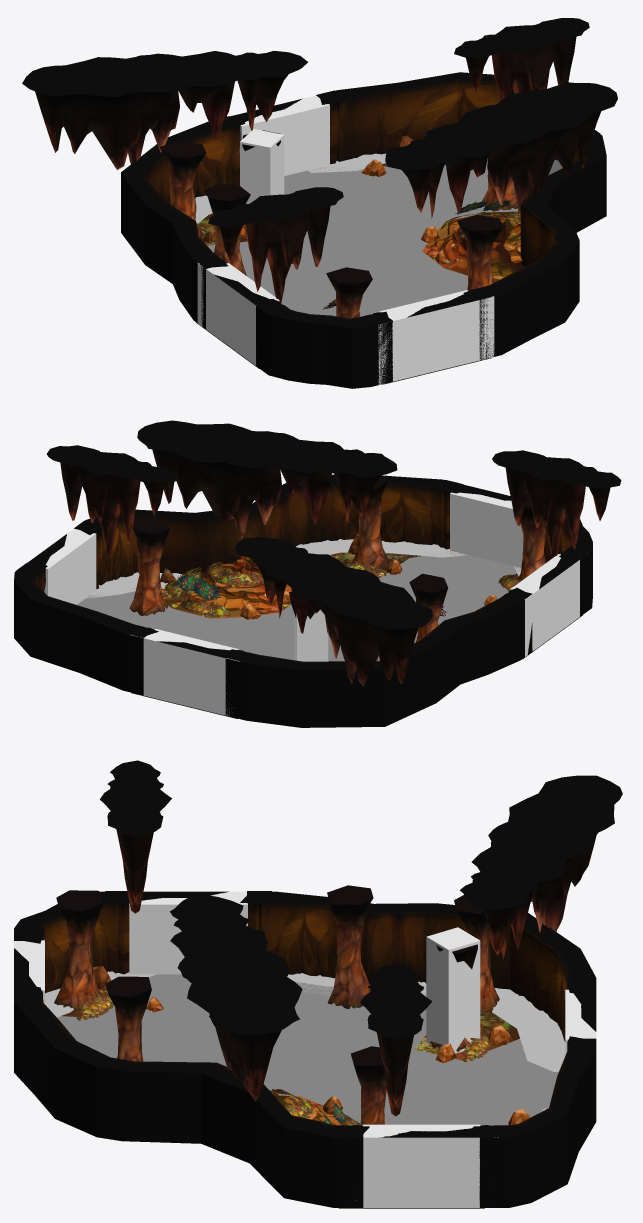
The model's file is Dungeon_062_Room_003.fbx.
The picture shows the model from 3 angles, top to bottom: view 1: azimuth 30°, elevation 25°; view 2: azimuth 150°, elevation 25°; view 3: azimuth 270°, elevation 25°; orthographic projection. The views are drawn at different scales.
Visible parts, largest first — view 1: Dun_061_Room_003_Object02, Dun_061_Room_003_wall, Dun_062_Room_003_Nav, DoorWay_NavMask (1) (×3), DoorWay_NavMask (3) (×2), Dun_062_Object027, Dun_062_Door_002 (×3), cube_061_pillar, Dun_062_Object07, Dungeon_062_Object_04_Pillar (×2), Dun_061_Room_003_shadow, Dun_011_Room_003_ground (+1 smaller); view 2: Dun_061_Room_003_wall, Dun_061_Room_003_Object02, DoorWay_NavMask (1) (×4), Dun_062_Room_003_Nav, DoorWay_NavMask (3) (×2), Dun_062_Door_002 (×4), Dungeon_062_Object_04_Pillar (×2), Dun_062_Object027, Dun_062_Object026, Dun_061_Room_003_shadow, Dun_062_Object07, cube_061_pillar (+3 smaller); view 3: Dun_061_Room_003_wall, Dun_061_Room_003_Object02, Dun_062_Room_003_Nav, Dun_062_Object027, DoorWay_NavMask (1) (×4), DoorWay_NavMask (3), Dun_062_Door_002 (×4), Dungeon_062_Object_04_Pillar (×2), cube_061_pillar, Dun_061_Room_003_shadow, Dun_062_Object026, Dun_011_Room_003_ground (+1 smaller).
Boxes of the visible parts, bbox=[...] form: Dun_061_Room_003_Object02: bbox=[22, 18, 617, 302]; Dun_061_Room_003_wall: bbox=[121, 72, 606, 388]; Dun_062_Room_003_Nav: bbox=[208, 158, 518, 316]; DoorWay_NavMask (1) (×3): bbox=[206, 95, 480, 381]; DoorWay_NavMask (3) (×2): bbox=[197, 263, 494, 384]; Dun_062_Object027: bbox=[160, 130, 503, 318]; Dun_062_Door_002 (×3): bbox=[195, 90, 497, 382]; cube_061_pillar: bbox=[240, 129, 284, 203]; Dun_062_Object07: bbox=[434, 216, 524, 279]; Dungeon_062_Object_04_Pillar (×2): bbox=[204, 173, 517, 275]; Dun_061_Room_003_shadow: bbox=[195, 153, 386, 223]; Dun_011_Room_003_ground: bbox=[196, 163, 520, 384]; Dun_061_Room_003_wall: bbox=[14, 474, 592, 727]; Dun_061_Room_003_Object02: bbox=[47, 420, 621, 685]; DoorWay_NavMask (1) (×4): bbox=[44, 492, 560, 714]; Dun_062_Room_003_Nav: bbox=[77, 551, 520, 661]; DoorWay_NavMask (3) (×2): bbox=[130, 560, 579, 716]; Dun_062_Door_002 (×4): bbox=[16, 480, 590, 715]; Dungeon_062_Object_04_Pillar (×2): bbox=[129, 515, 448, 641]; Dun_062_Object027: bbox=[289, 475, 545, 661]; Dun_062_Object026: bbox=[164, 559, 522, 617]; Dun_061_Room_003_shadow: bbox=[85, 539, 521, 598]; Dun_062_Object07: bbox=[176, 555, 291, 611]; cube_061_pillar: bbox=[294, 609, 328, 661]; Dun_061_Room_003_wall: bbox=[14, 891, 596, 1207]; Dun_061_Room_003_Object02: bbox=[100, 760, 622, 1116]; Dun_062_Room_003_Nav: bbox=[57, 974, 558, 1125]; Dun_062_Object027: bbox=[54, 890, 499, 1061]; DoorWay_NavMask (1) (×4): bbox=[14, 892, 581, 1207]; DoorWay_NavMask (3): bbox=[356, 1129, 498, 1207]; Dun_062_Door_002 (×4): bbox=[14, 891, 596, 1208]; Dungeon_062_Object_04_Pillar (×2): bbox=[327, 885, 386, 1125]; cube_061_pillar: bbox=[426, 927, 480, 1053]; Dun_061_Room_003_shadow: bbox=[45, 971, 565, 1112]; Dun_062_Object026: bbox=[76, 989, 491, 1125]; Dun_011_Room_003_ground: bbox=[61, 1009, 519, 1208].
Size of the model in its own units: 17.49 by 5.11 by 15.84.
